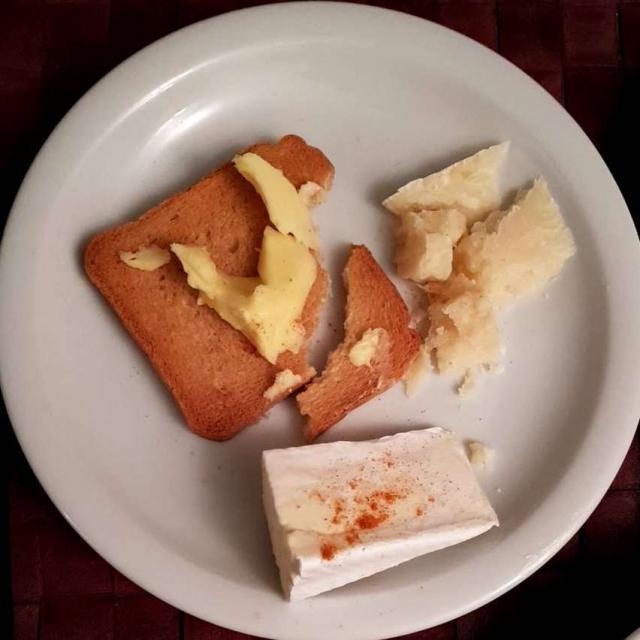cheese: (246, 424, 486, 600), (396, 149, 572, 389)
